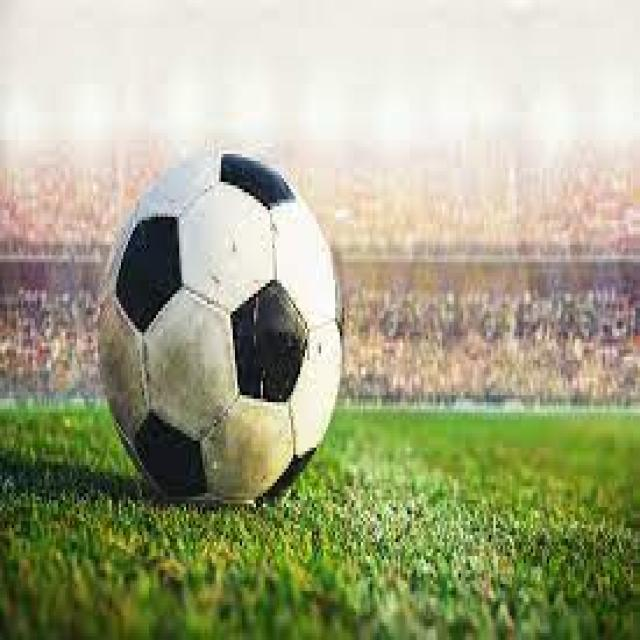ball: (99, 149, 344, 509)
